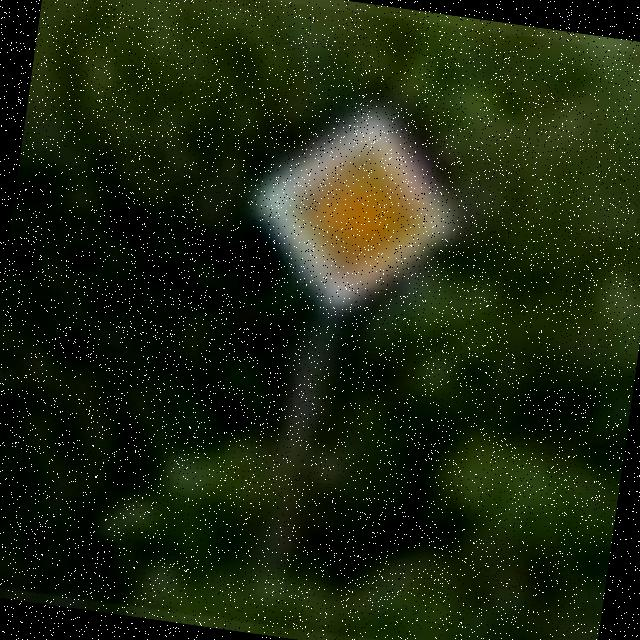Droga z pierwszenstwem: (232, 88, 477, 334)
